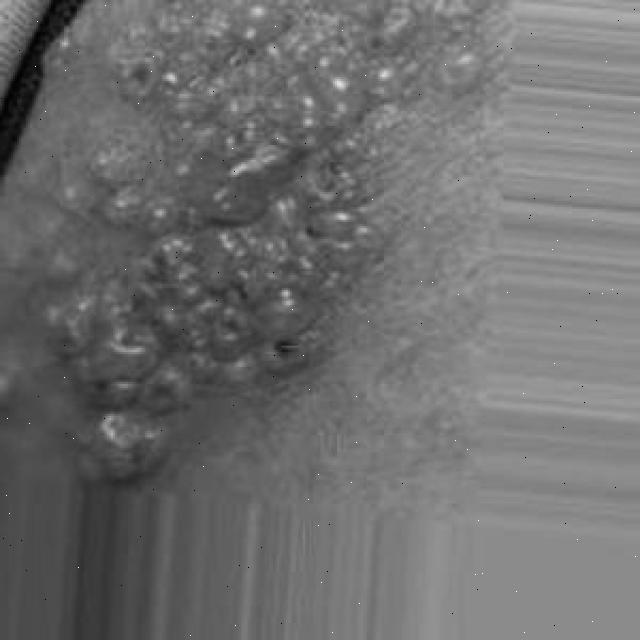Shingles: (0, 0, 483, 486)
